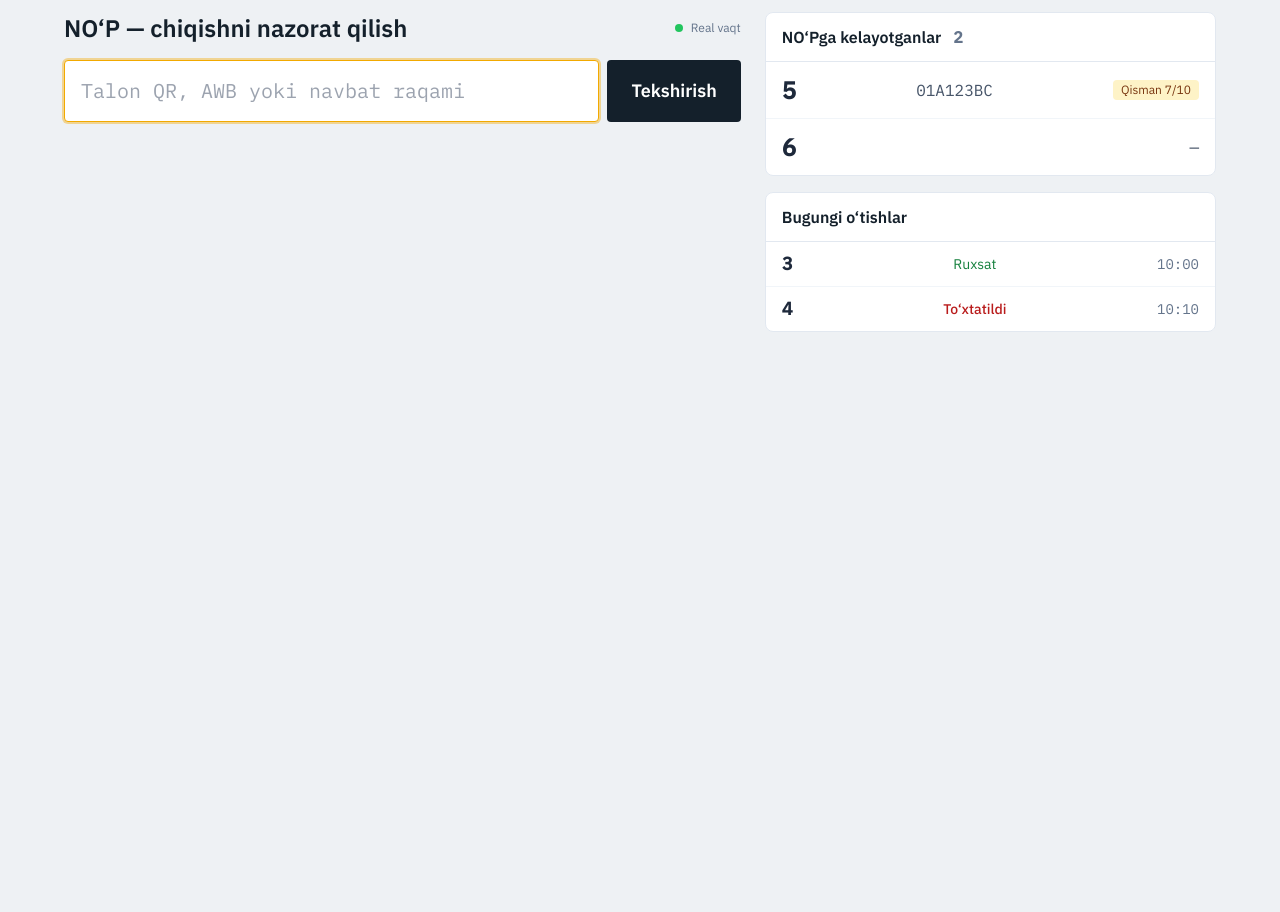
CheckpointPage › confirms the exit with the observed plate
Type "5" into the field named "Talonni skanerlash" at [332, 91], box [64,60,599,122]
Then press Enter
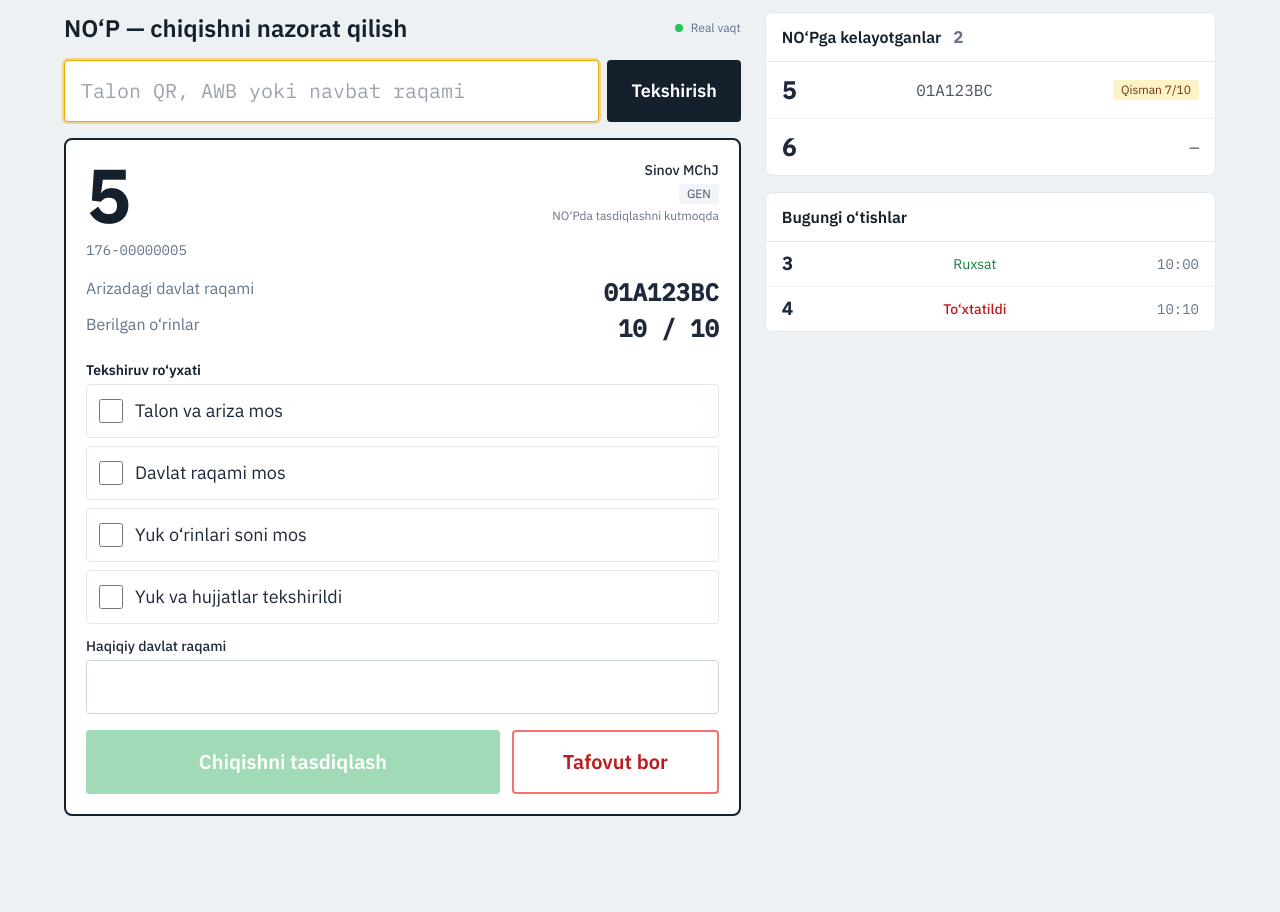
Click the checkbox labelled "Talon va ariza mos" at [111, 411], box [99,399,123,423]
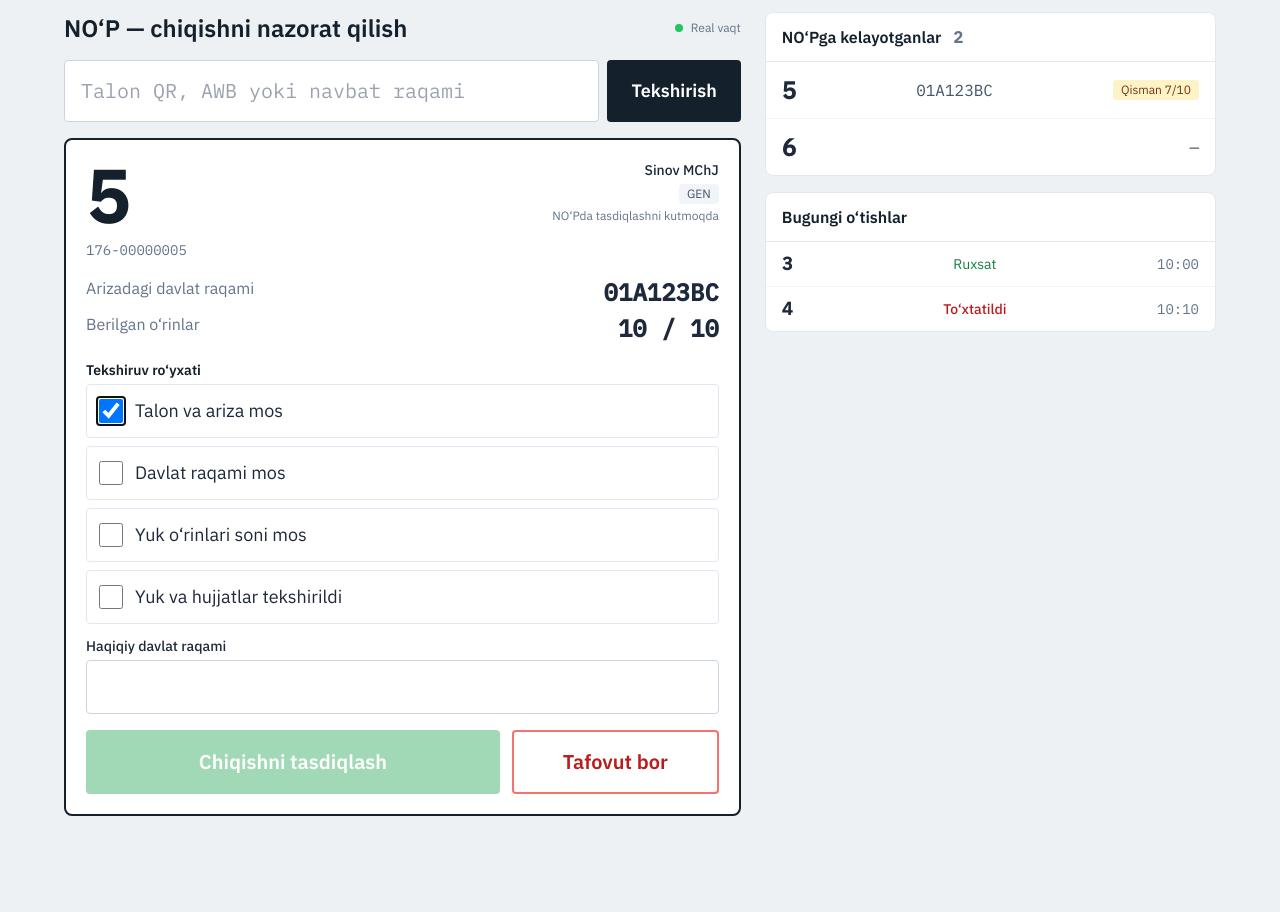
Click the checkbox labelled "Davlat raqami mos" at [111, 473], box [99,461,123,485]
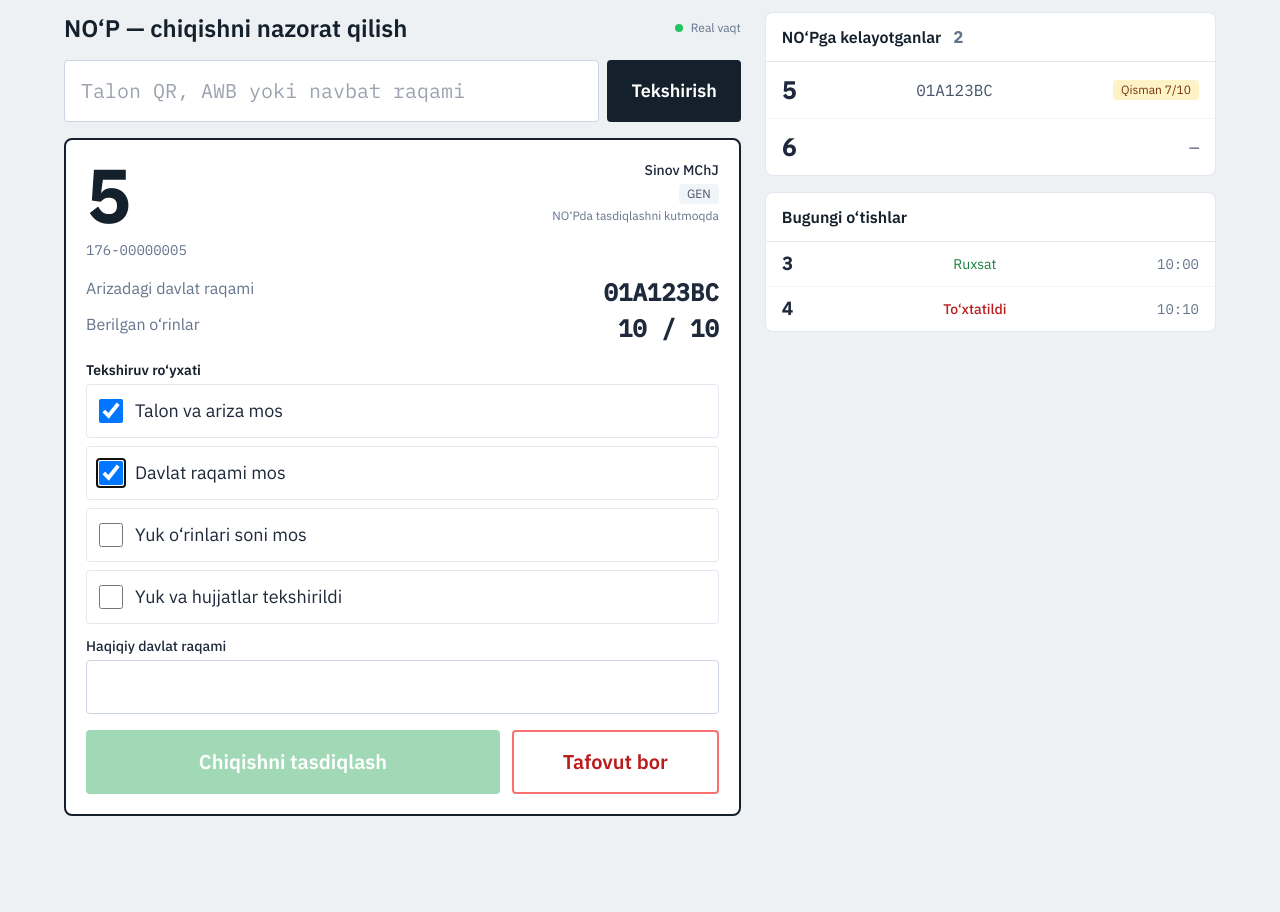
Click the checkbox labelled "Yuk o‘rinlari soni mos" at [111, 535], box [99,523,123,547]
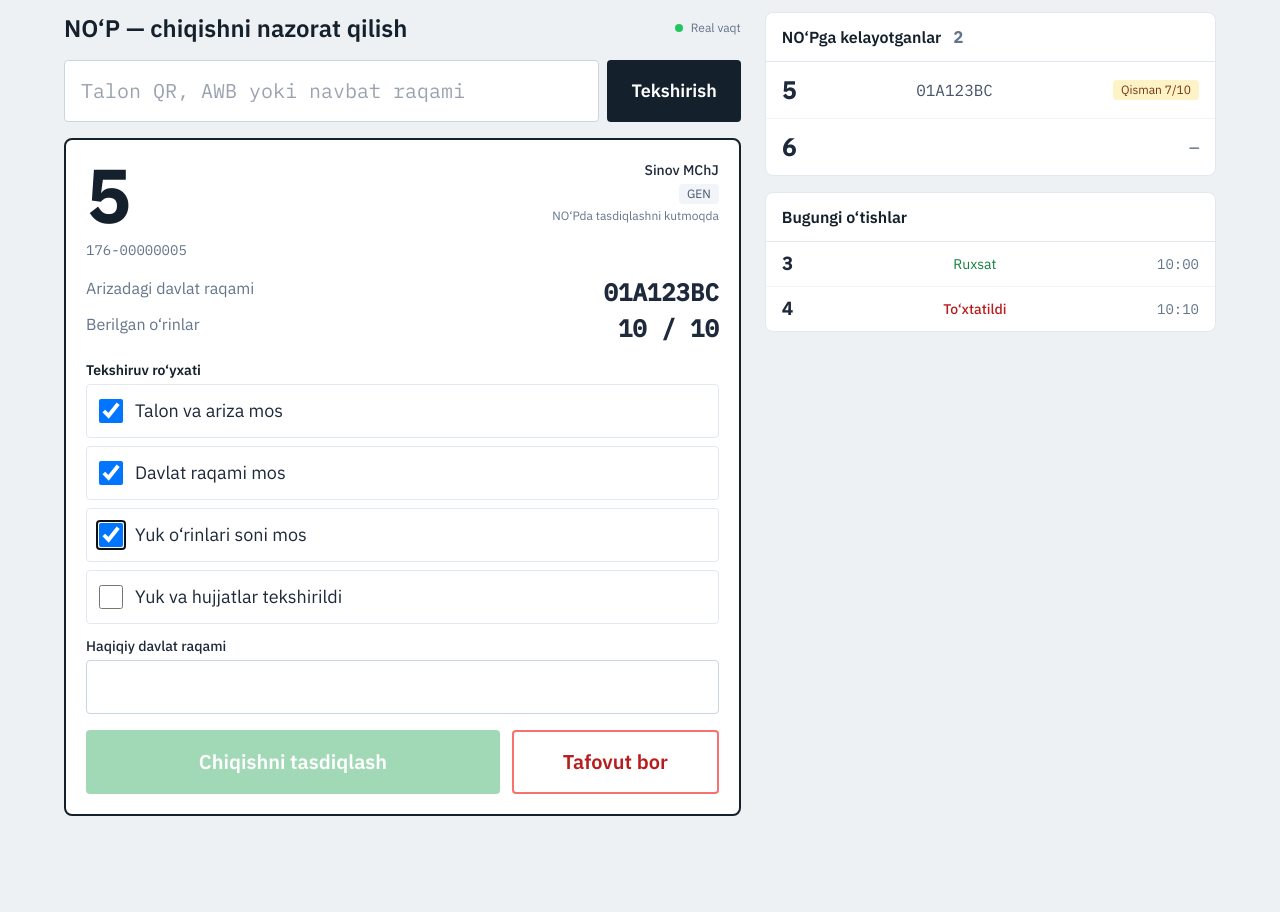
Click the checkbox labelled "Yuk va hujjatlar tekshirildi" at [111, 597], box [99,585,123,609]
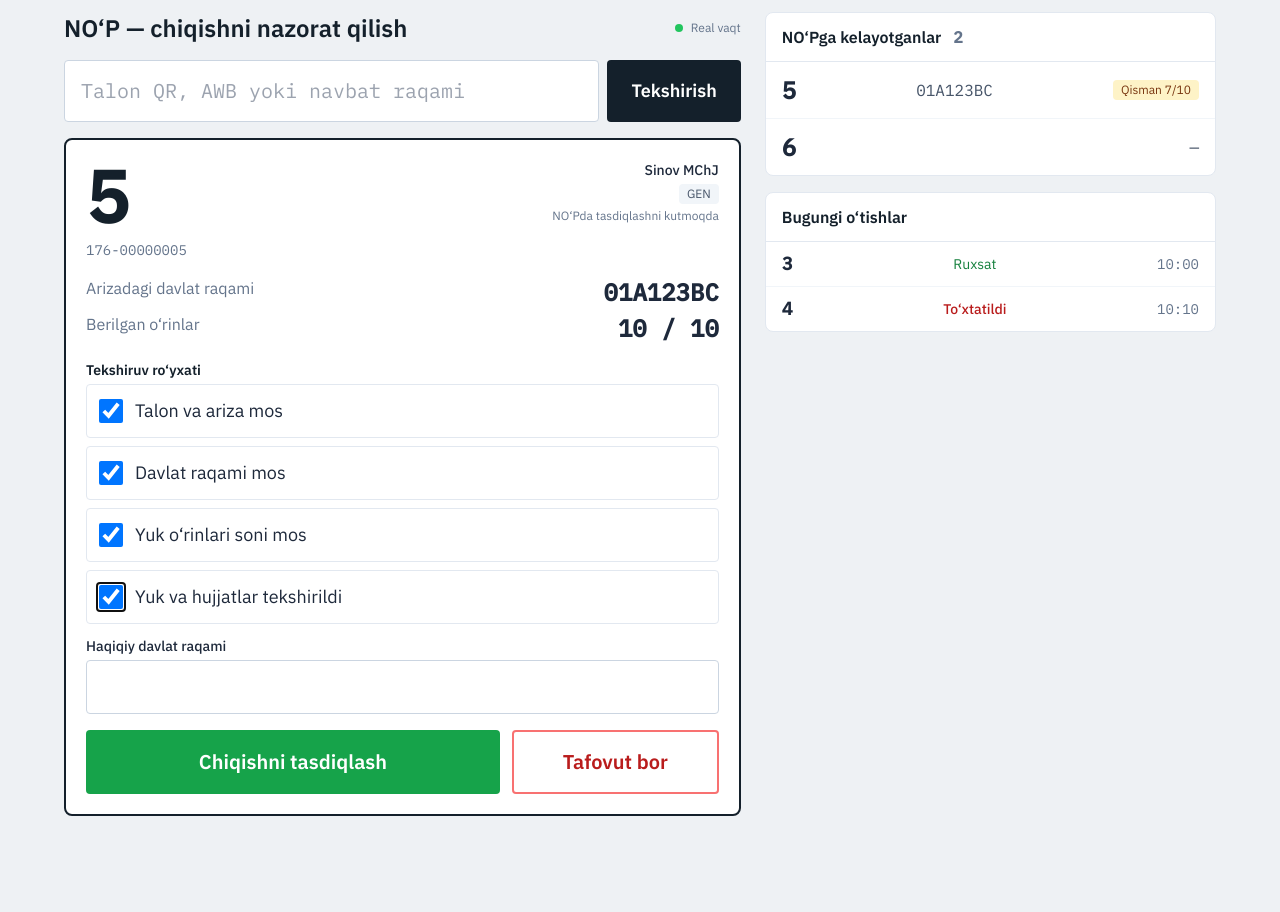
Type "01a123bc" into the field labelled "Haqiqiy davlat raqami" at [402, 687], box [86,660,719,714]
Click the button "Chiqishni tasdiqlash" at [293, 762], box [86,730,500,794]
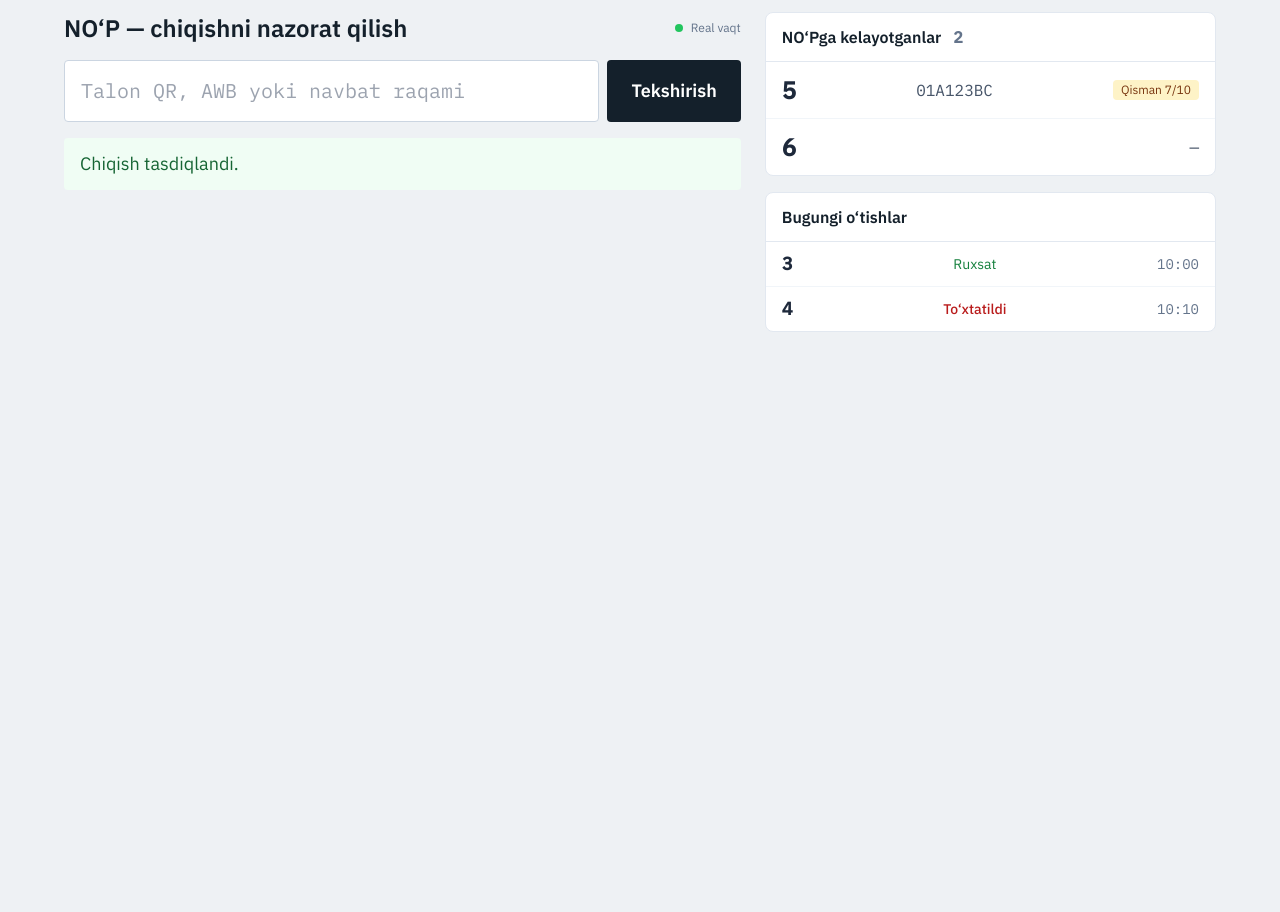
Check: the text "Chiqish tasdiqlandi." is shown, box [64,138,741,190]
Check: the text with test id "check-number" is gone
